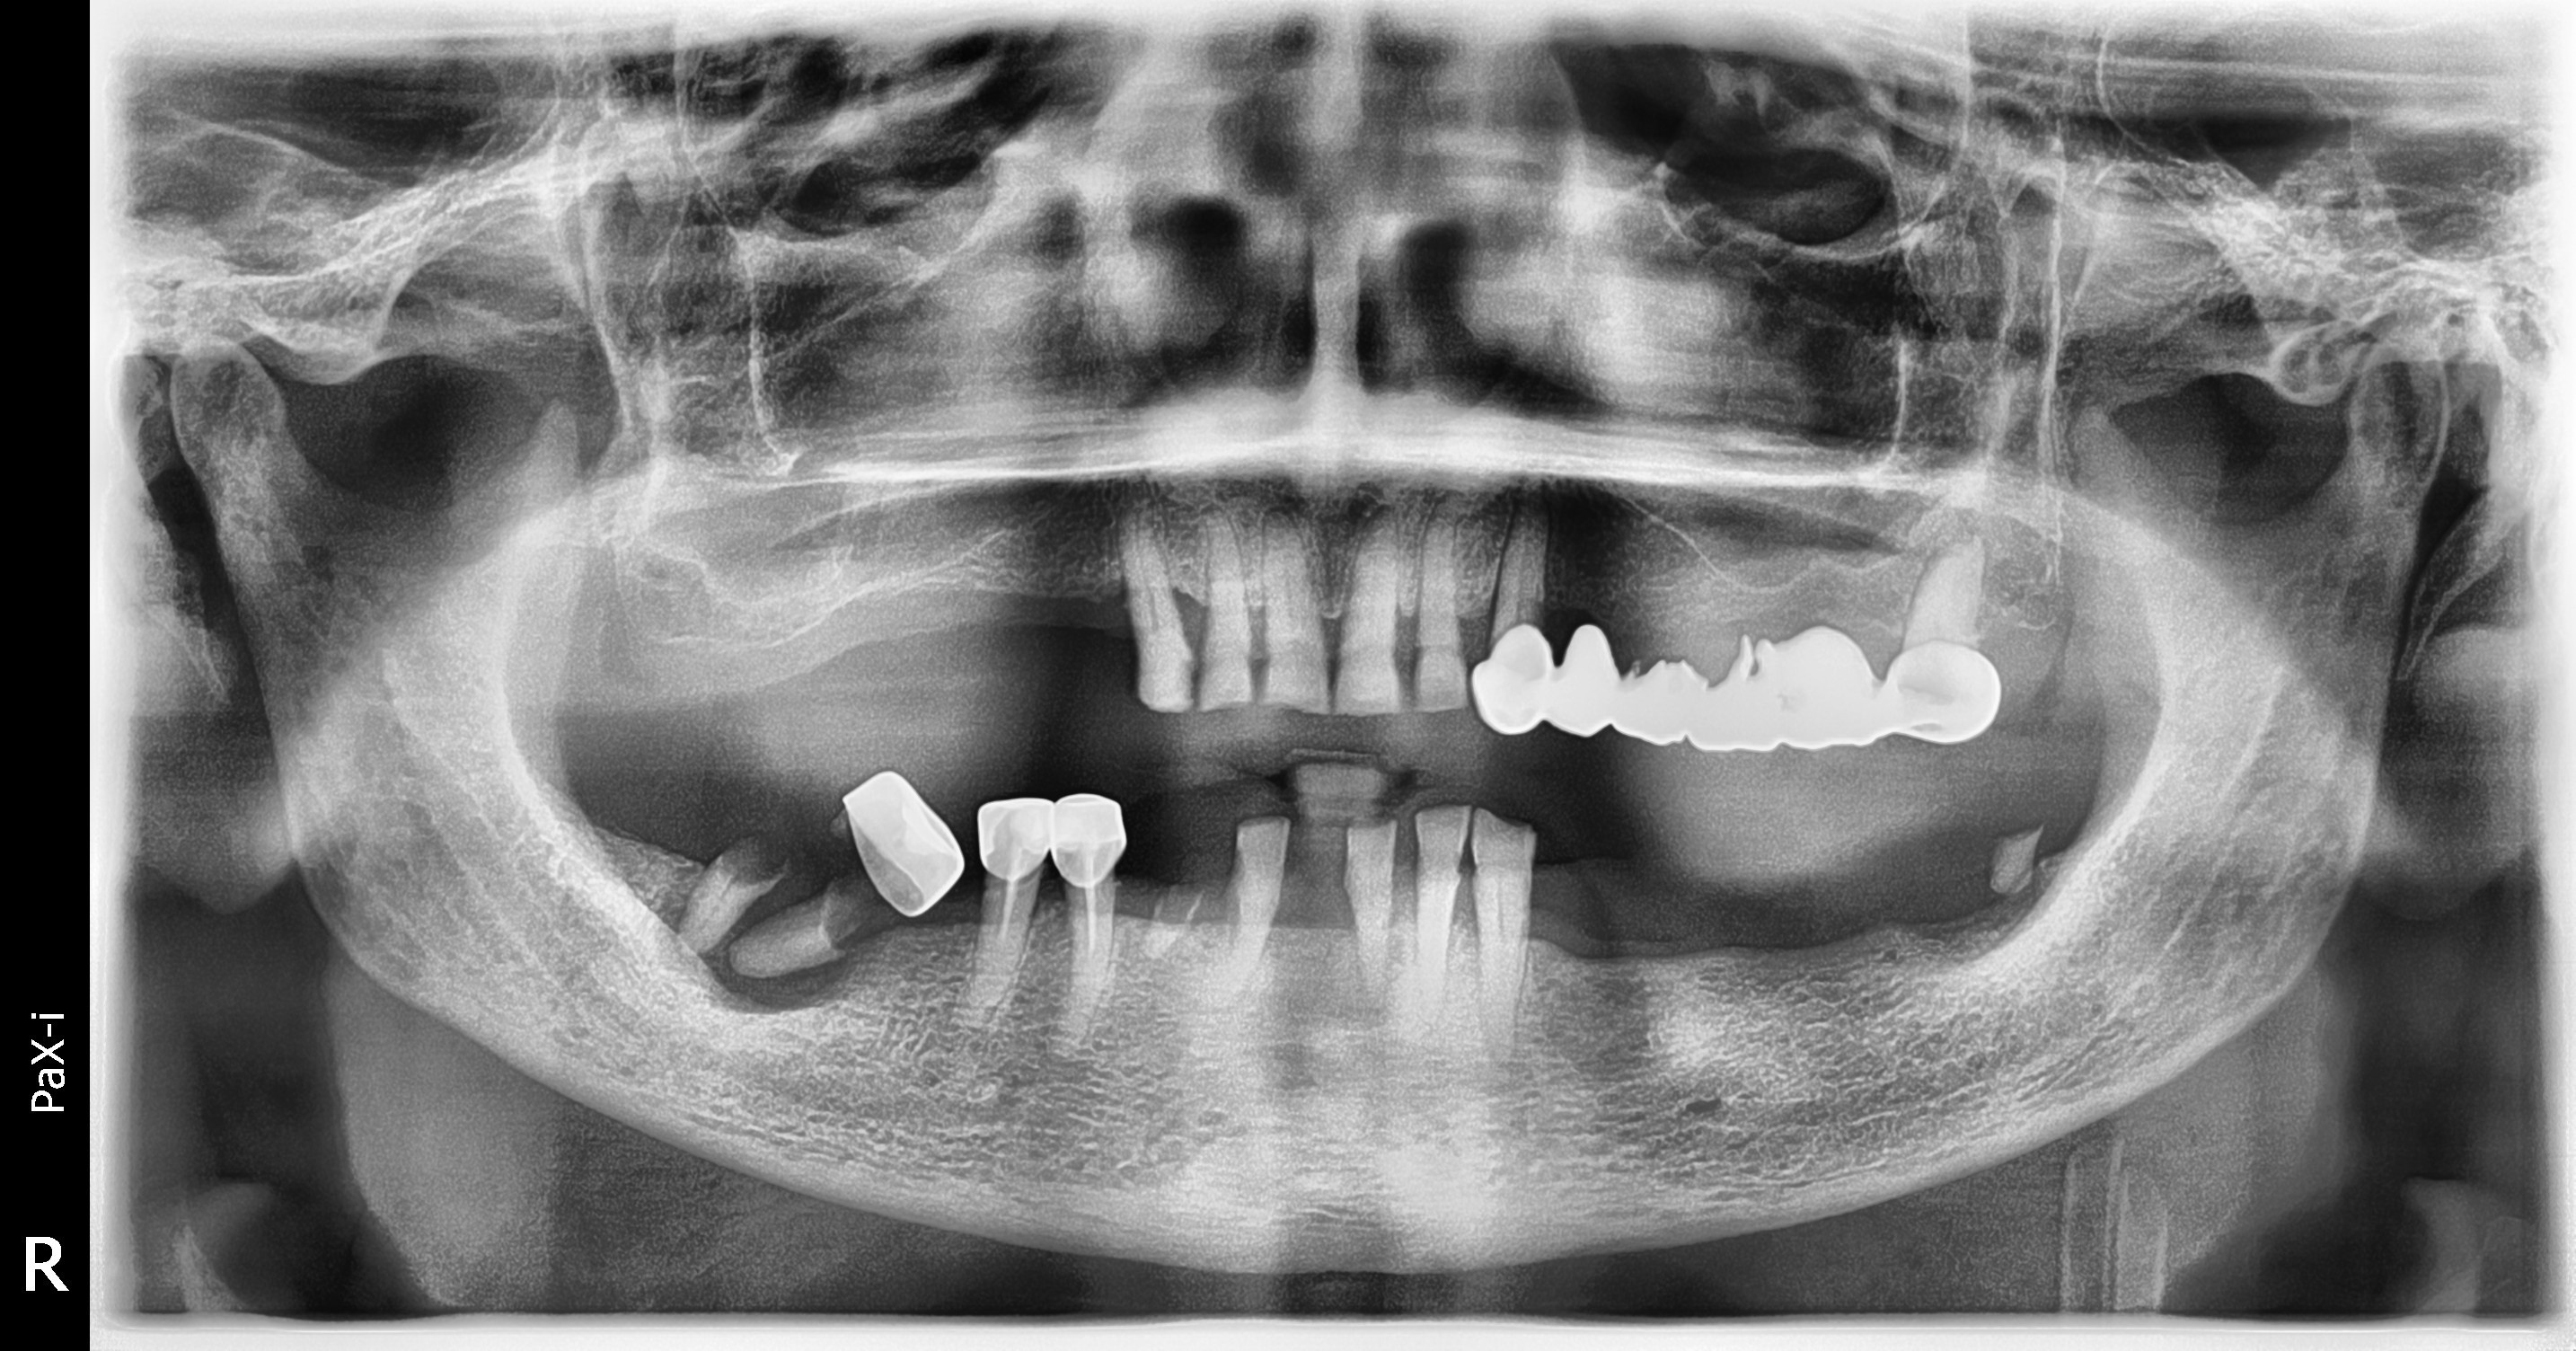BON: (656, 859, 896, 1012)
END: (1084, 886, 1097, 966)
PRR: (1474, 617, 2000, 751)
ROT: (1990, 821, 2043, 894)
